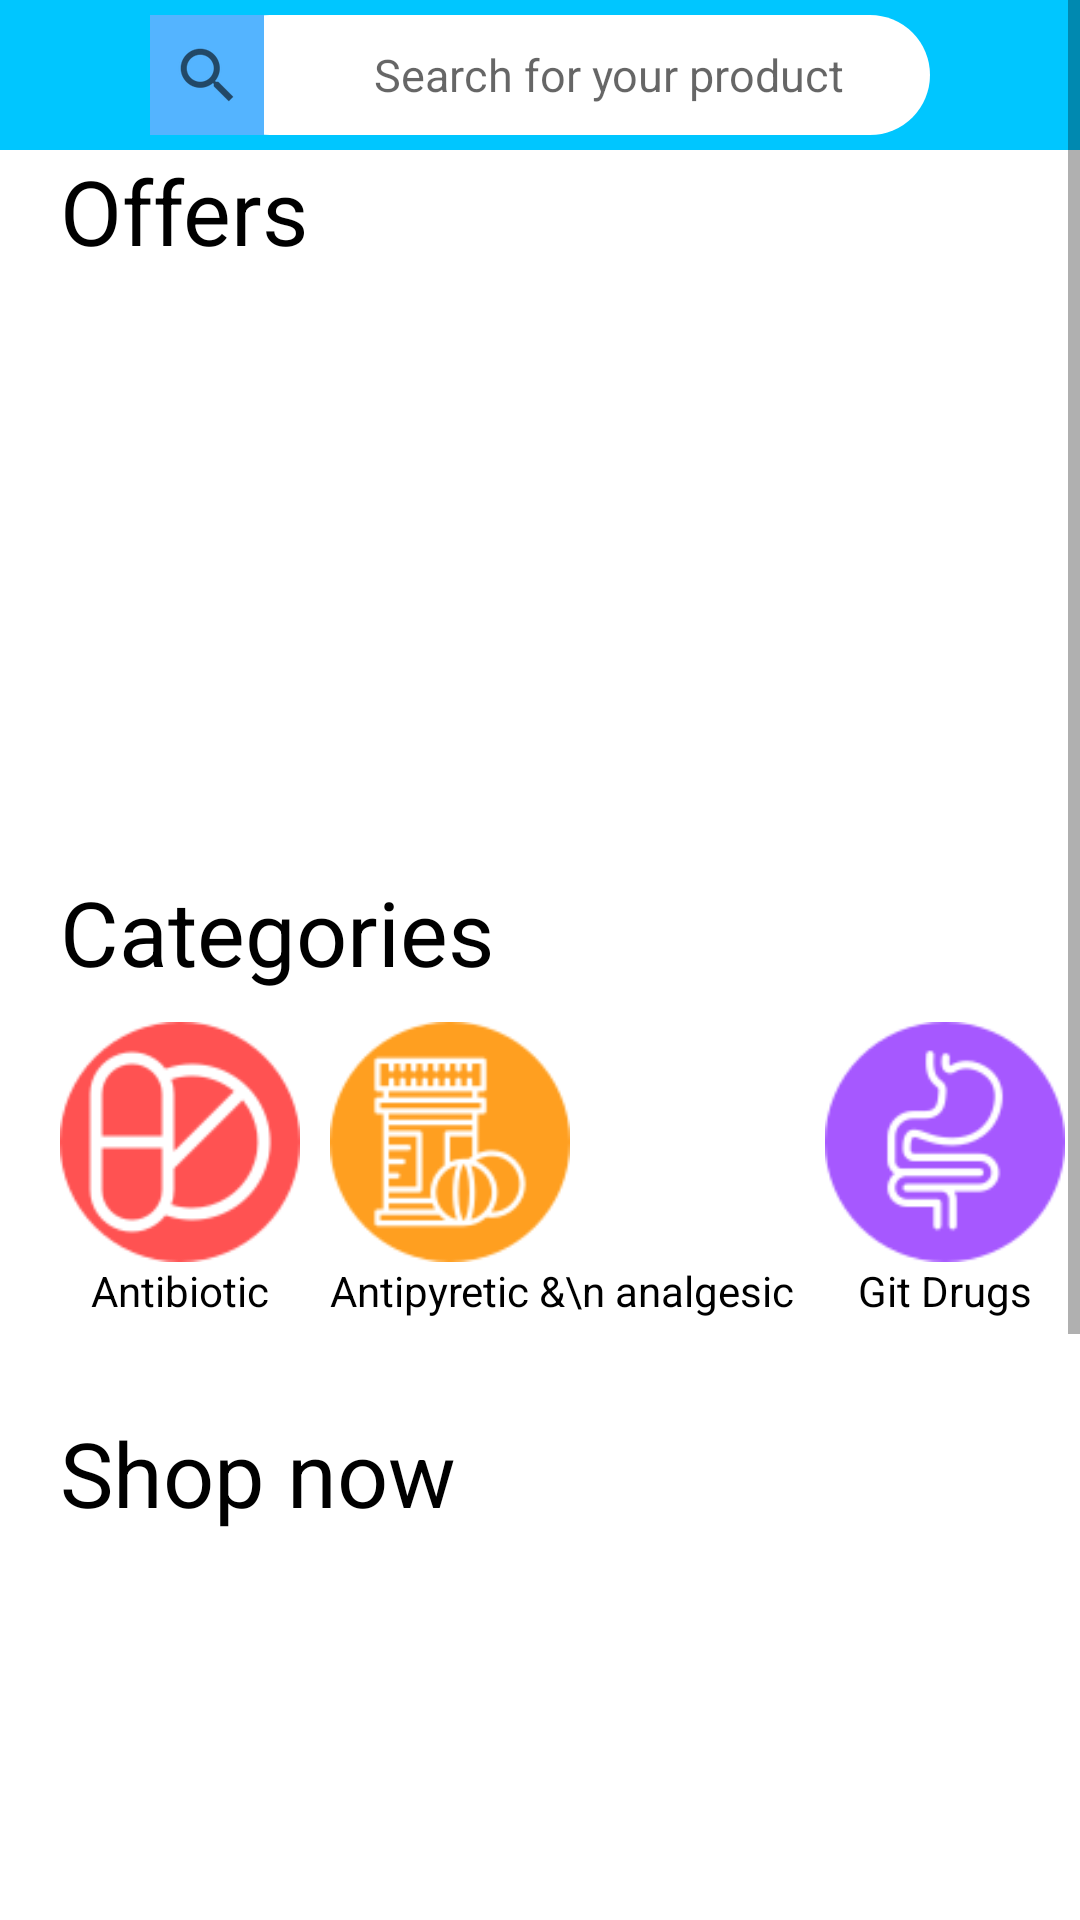

Where to tap for icons on this 1080w x 1920h app screen, as (x=x, y=y):
gastrointestinal tract: (x=945, y=1142)
painkiller: (x=450, y=1142)
pill: (x=180, y=1142)
